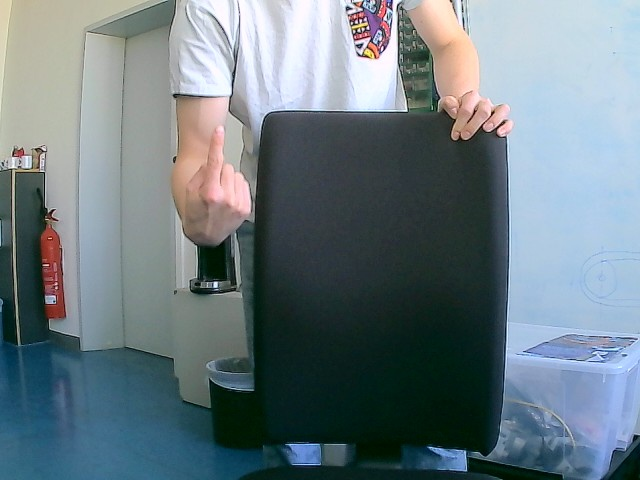no_gesture: (437, 89, 515, 142)
up: (179, 124, 253, 248)
